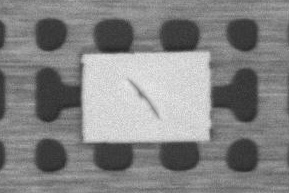DIE_INK: (127, 77, 160, 120)
